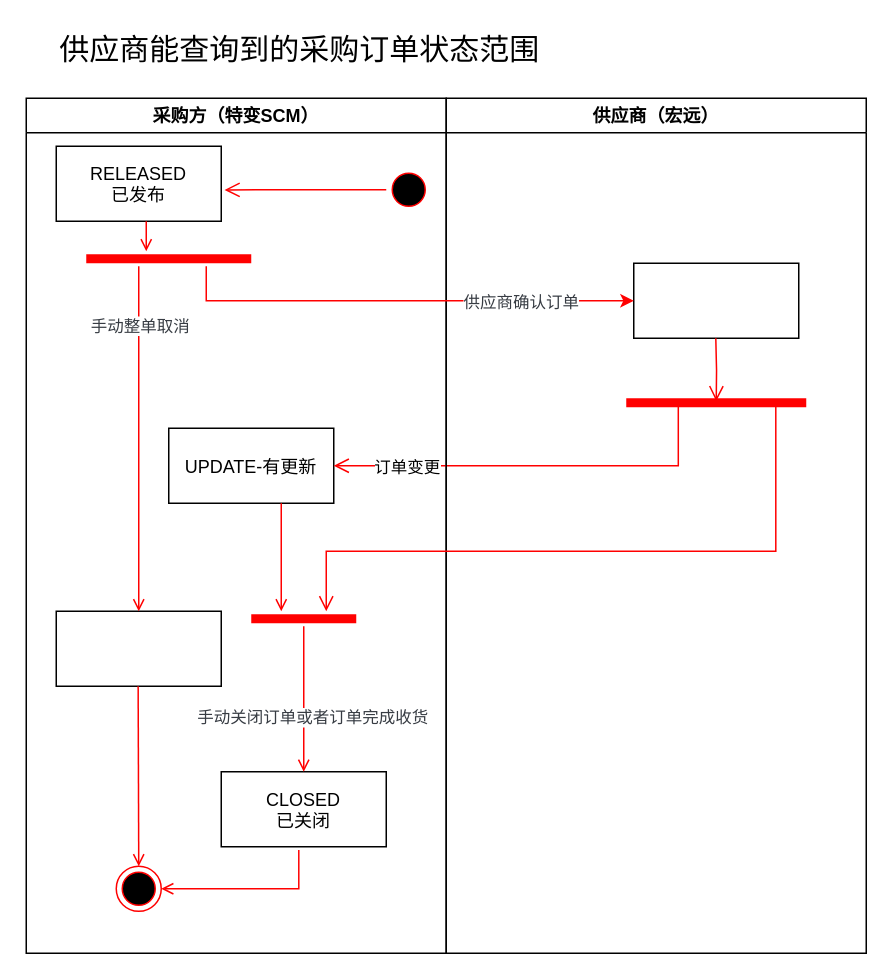
This 893x980 diagram has some shape labels left out. Here are the shapes that lost their labels. From the top down, the centre of each, then its label:
At (715,300): "CONFIRMED 已确认".
At (138,648): "CANCELLED 已取消".
